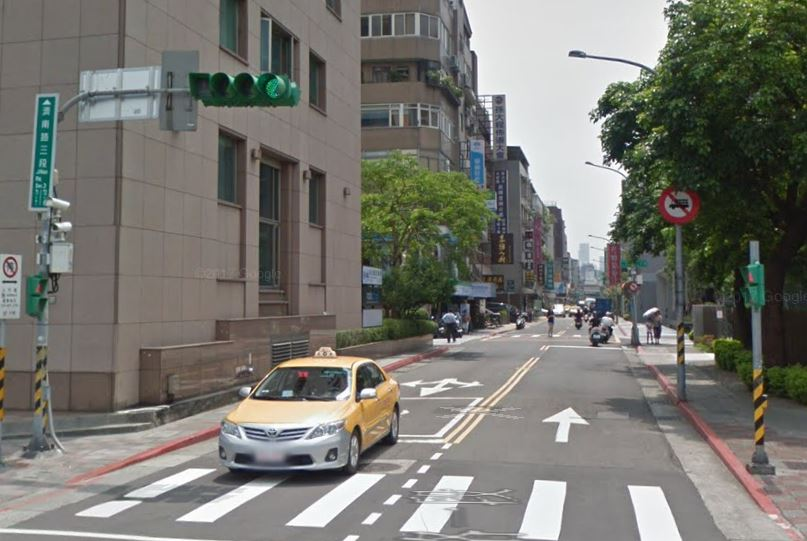Traffic_light_green: (193, 67, 299, 110)
car: (220, 342, 407, 479)
